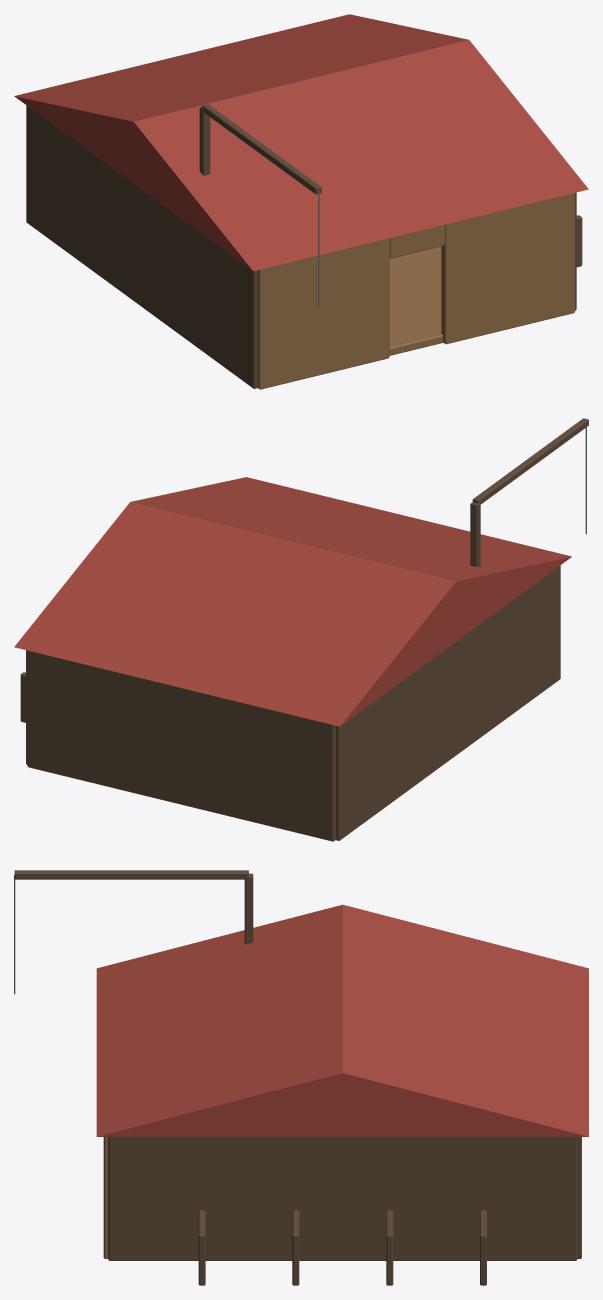
Rendered from harbor-shipyard.lod0.glb.
3 views of the same model, one above another, from view 1: azimuth 30°, elevation 25°; view 2: azimuth 150°, elevation 25°; view 3: azimuth 270°, elevation 25° (orthographic). The views are drawn at different scales.
Parts seen in each view (by area): view 1: harbor-shipyard__roof, harbor-shipyard__body, harbor-shipyard__front-wall; view 2: harbor-shipyard__roof, harbor-shipyard__body; view 3: harbor-shipyard__roof, harbor-shipyard__body, harbor-shipyard__front-wall.
Part boxes in pixels (bbox=[...]): harbor-shipyard__roof: bbox=[14, 14, 588, 271]; harbor-shipyard__body: bbox=[26, 104, 582, 388]; harbor-shipyard__front-wall: bbox=[257, 193, 574, 389]; harbor-shipyard__roof: bbox=[14, 477, 571, 726]; harbor-shipyard__body: bbox=[20, 418, 588, 841]; harbor-shipyard__roof: bbox=[96, 904, 588, 1136]; harbor-shipyard__body: bbox=[14, 870, 581, 1285]; harbor-shipyard__front-wall: bbox=[103, 1137, 108, 1258].
Bounding box in the file's own units: 9.6 × 5.58 × 12.26.
